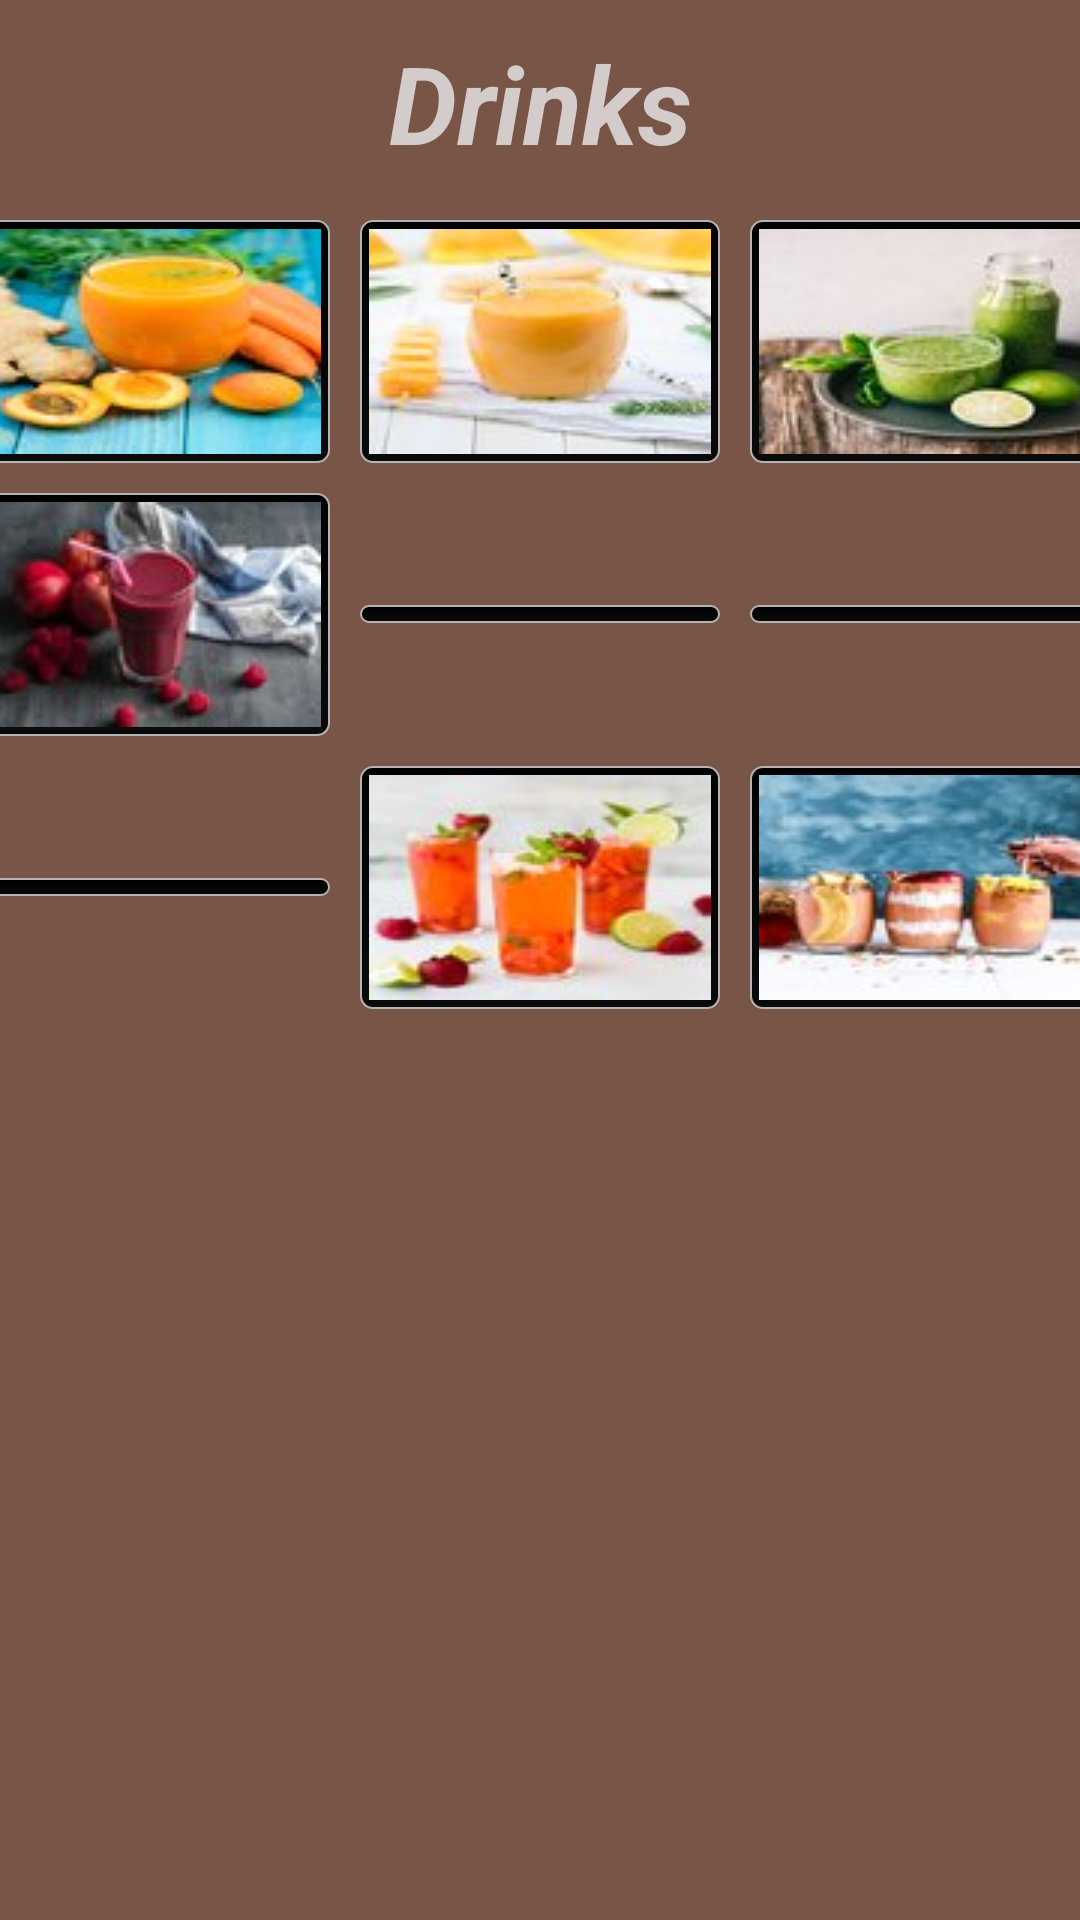

Icon click points for this 1080 × 1920 phone screenshot, format (x=x, y=y):
drink: (x=540, y=887), (x=915, y=887)
Green Lemon Juice: (x=915, y=341)
Mango Juice: (x=540, y=341)
Raspberry smoothie: (x=165, y=614)
